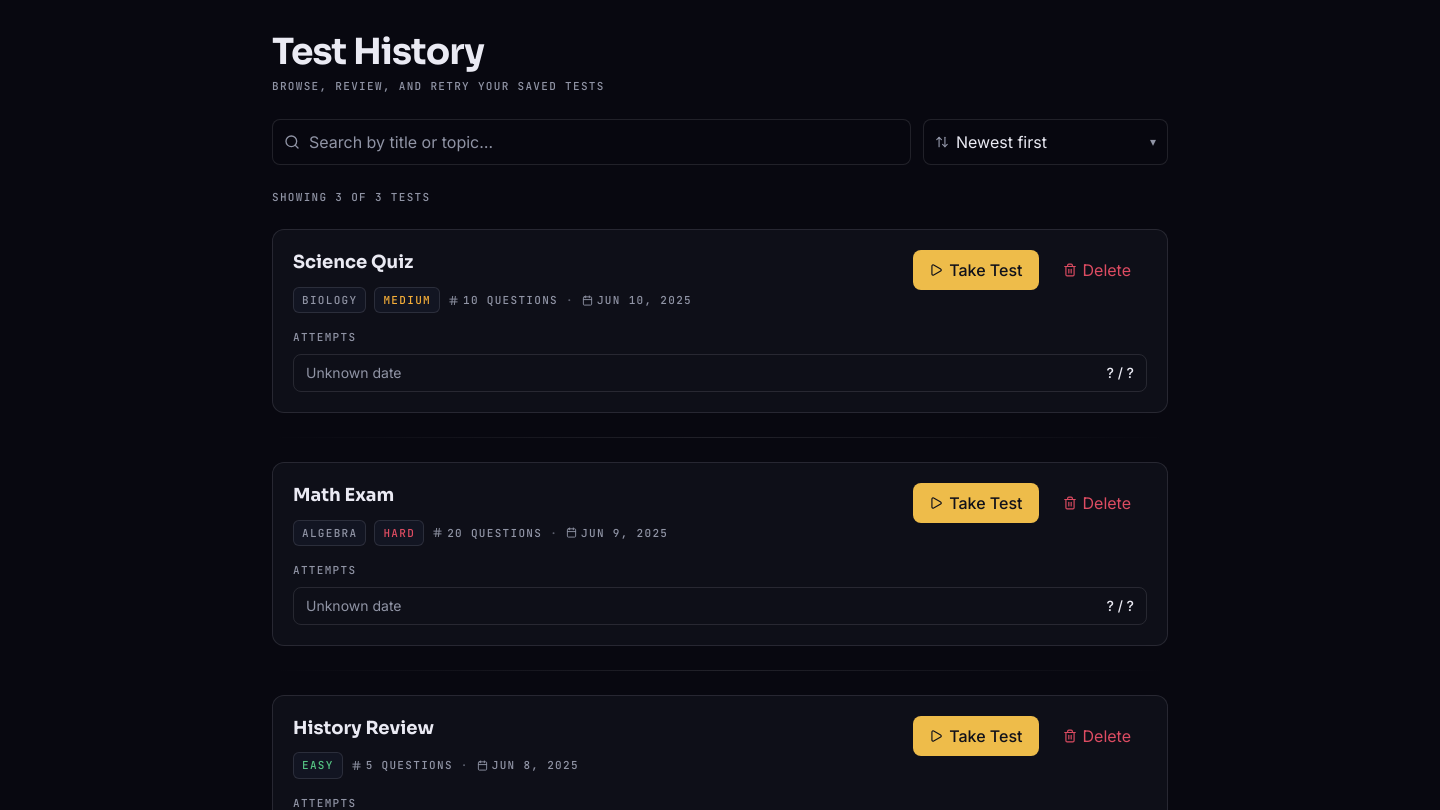
Test: TestHistory › confirm delete removes test from list
Expected: the heading "Science Quiz" is shown, left=293, top=251, right=413, bottom=273
Click the button "Delete" in the row of "Science Quiz" at (1097, 270), box left=1046, top=250, right=1147, bottom=290
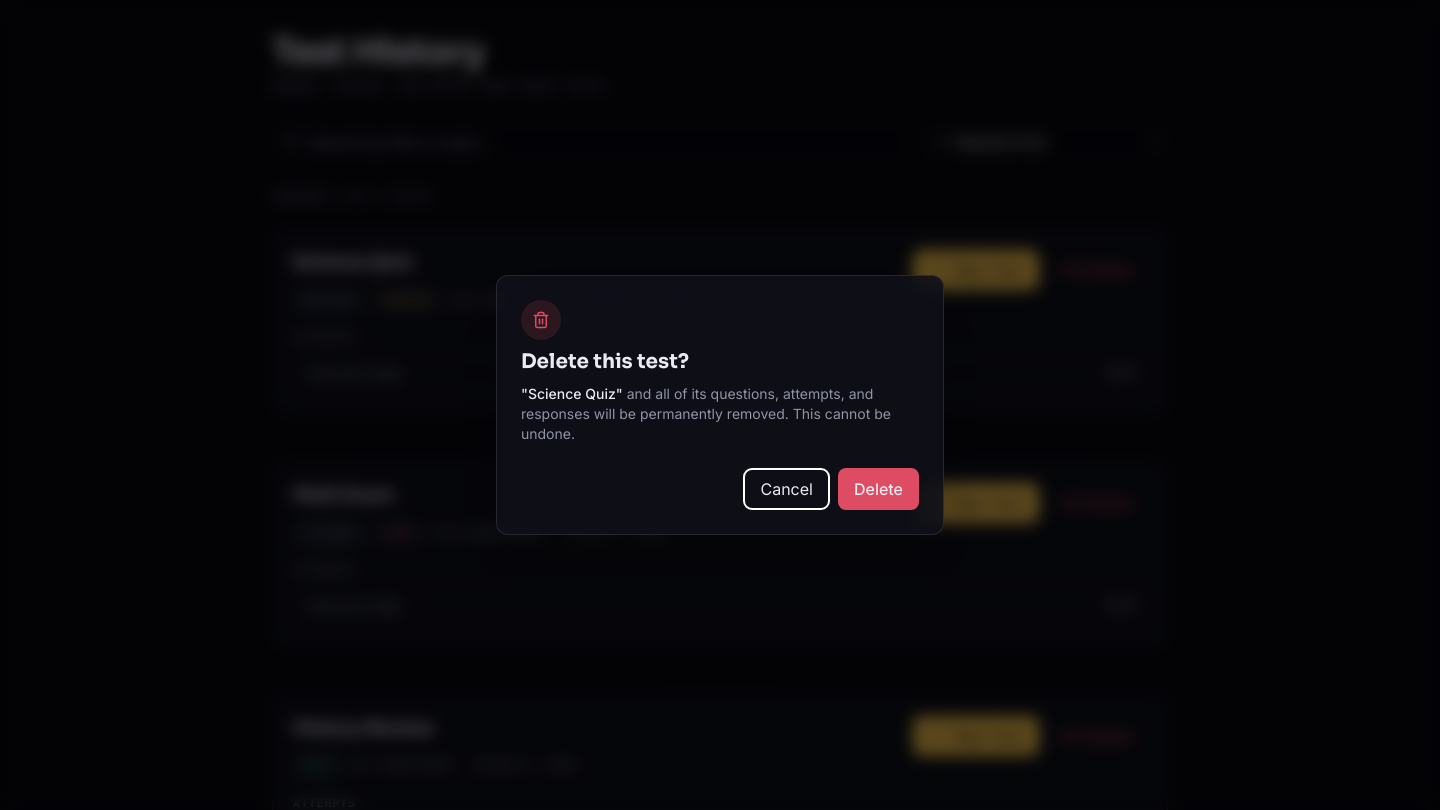
Result: the heading "Delete this test?" is shown at left=521, top=349, right=689, bottom=374
Click the button "Delete" at (878, 489), box left=838, top=468, right=919, bottom=510
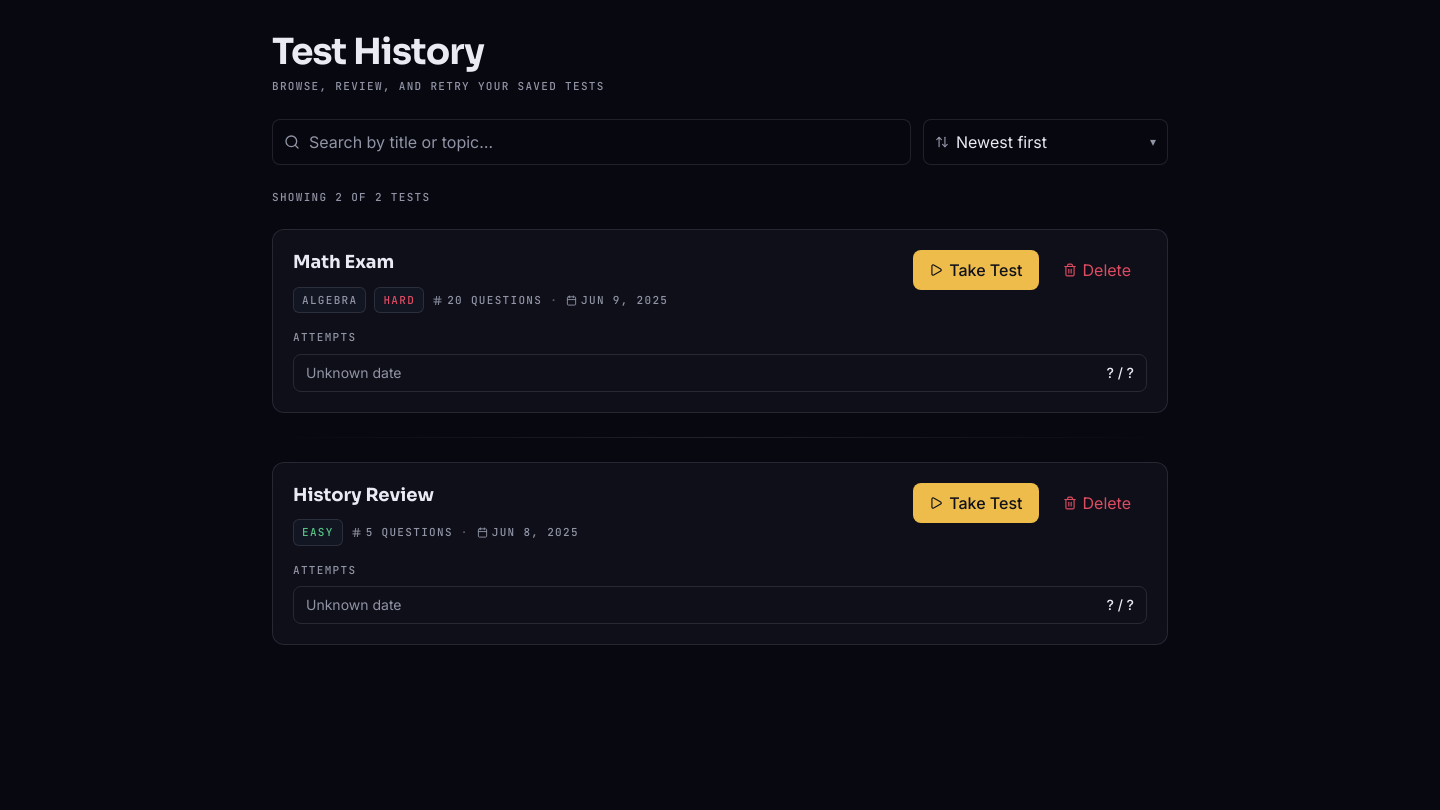
Result: the heading "Science Quiz" is gone
